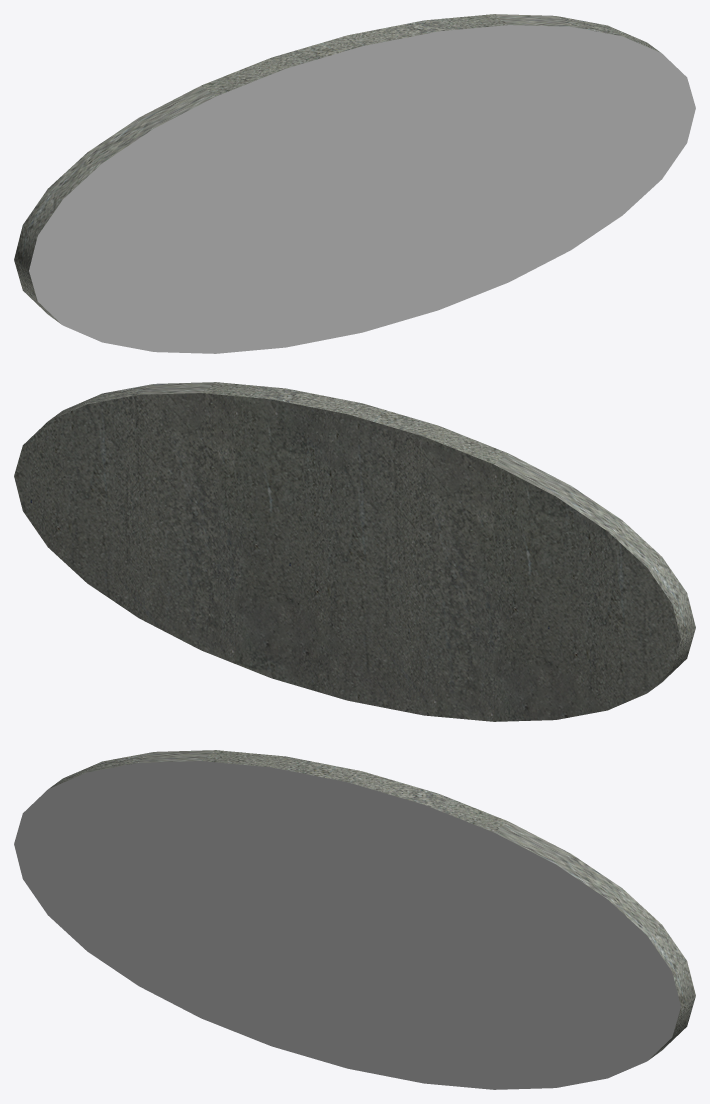
File: DT_Sign_32.fbx
3 renders of one model, top to bottom at view 1: azimuth 30°, elevation 25°; view 2: azimuth 150°, elevation 25°; view 3: azimuth 330°, elevation 25°, orthographic.
Visible parts, largest first — view 1: DT_Sign_32; view 2: DT_Sign_32; view 3: DT_Sign_32.
Boxes of the visible parts, box(x1,y1,x2,y2) form: DT_Sign_32: box(14, 14, 695, 353); DT_Sign_32: box(14, 382, 695, 721); DT_Sign_32: box(14, 750, 695, 1089).
Bounding box in the file's own units: 258 × 106 × 10.
